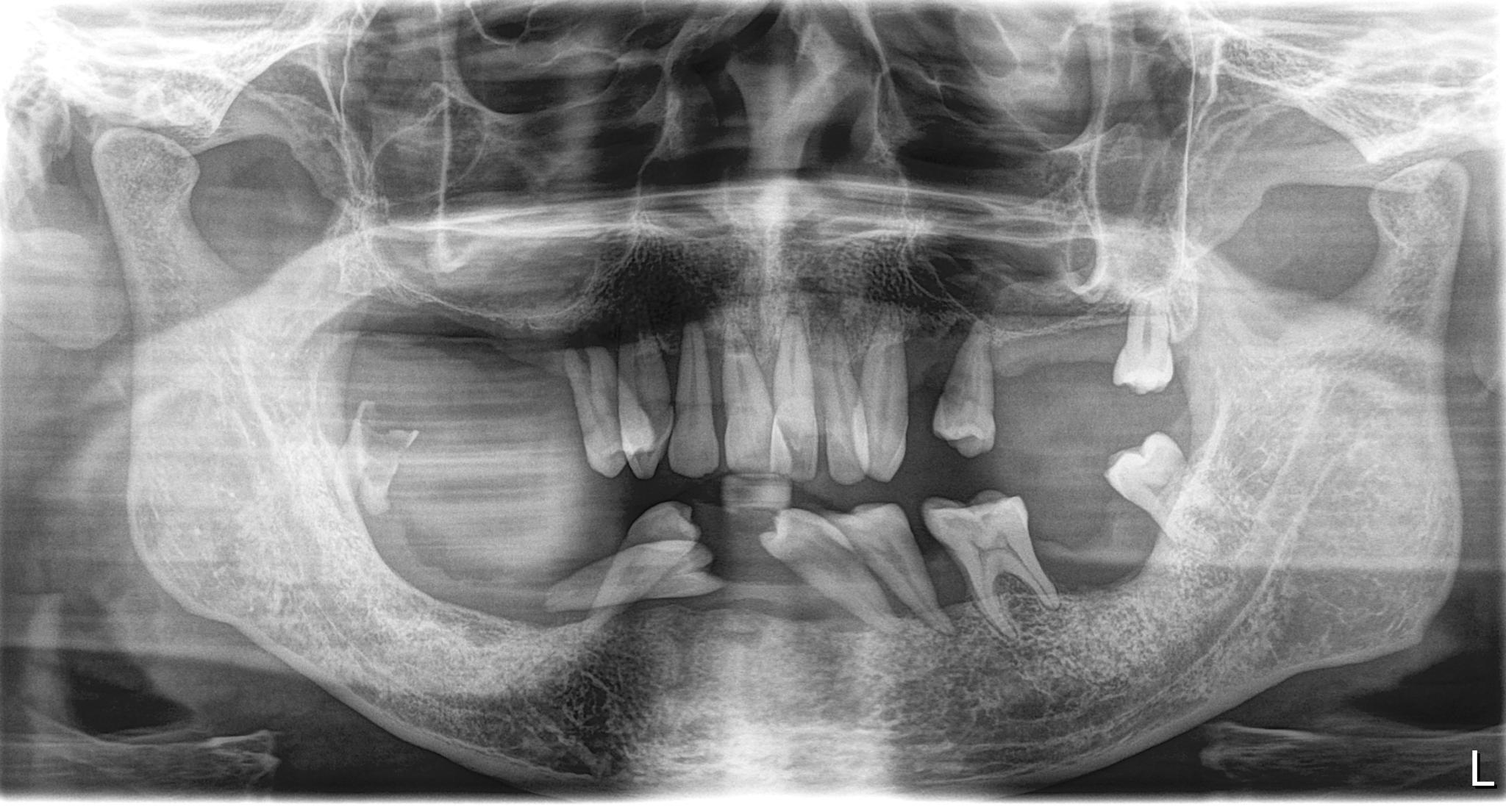Impacted Third Molar: (1112, 437, 1210, 523), (1113, 307, 1180, 390)
Missing Tooth: (1029, 485, 1142, 583), (708, 514, 777, 623), (504, 500, 554, 648), (428, 492, 479, 634), (450, 288, 496, 421), (395, 294, 440, 424), (1055, 322, 1105, 437), (518, 279, 558, 417), (989, 334, 1041, 439), (386, 491, 426, 626), (901, 325, 951, 426), (346, 307, 385, 408)
Retained Root: (346, 402, 405, 515)
